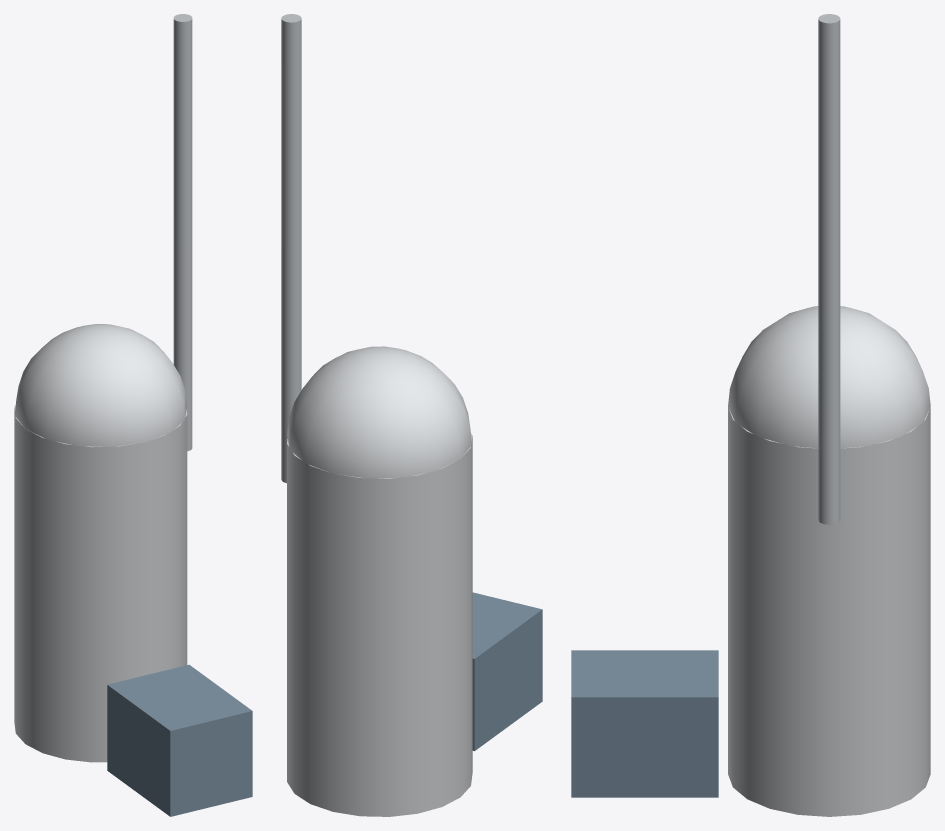
Rendered from degasser.glb.
The picture shows the model from 3 angles, left to right: view 1: azimuth 30°, elevation 25°; view 2: azimuth 150°, elevation 25°; view 3: azimuth 270°, elevation 25°; orthographic projection. The views are drawn at different scales.
Bounding box in the file's own units: 1.21 × 4.8 × 1.95.
